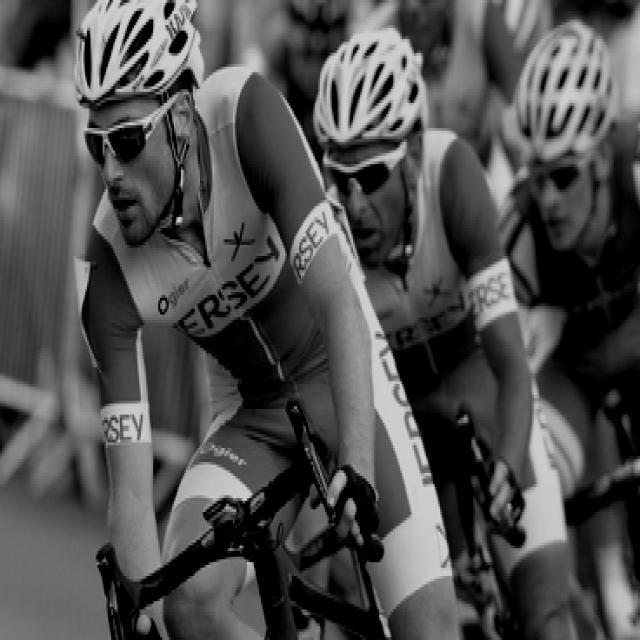Helmet: (66, 0, 205, 253)
